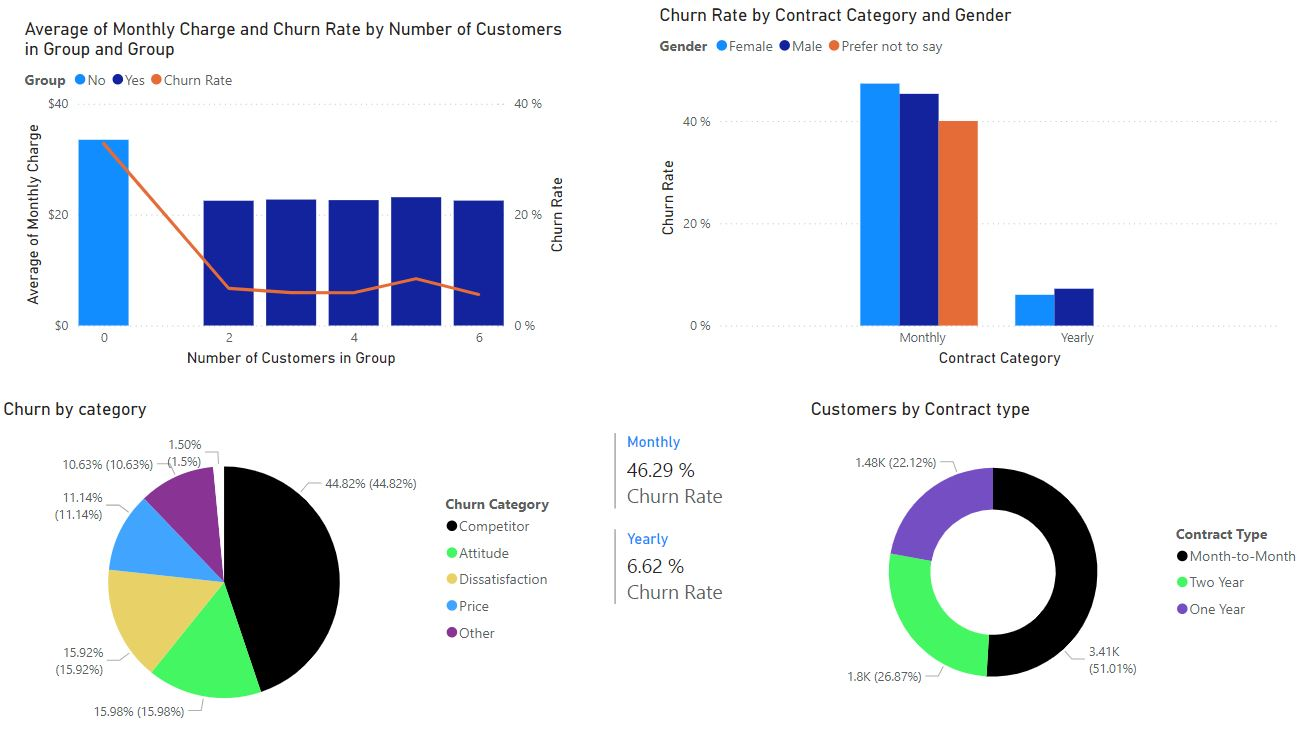

The dashboard page shown, as its layout file describes it:
{"tool":"powerbi","page":{"name":"Groups and Categories","canvas":[1280,720],"ordinal":1},"visuals":[{"type":"lineStackedColumnComboChart","fields":{"Category":["Databel - Data.Number of Customers in Group"],"Y":["Avg(Databel - Data.Monthly Charge)"],"Series":["Databel - Data.Group"],"Y2":["Databel - Data.Churn Rate"]},"box":[20.5,23.5,526.4,337.3],"z":0},{"type":"pieChart","title":"Churn by category","fields":{"Category":["Databel - Data.Churn Category"],"Y":["CountNonNull(Databel - Data.Churn Label)"]},"box":[0,387.1,547,332.9],"z":1000},{"type":"clusteredColumnChart","fields":{"Y":["Databel - Data.Churn Rate"],"Category":["Databel - Data.Contract Category"],"Series":["Databel - Data.Gender"]},"box":[626.2,10.3,601.2,350.5],"z":2000},{"type":"multiRowCard","fields":{"Values":["Databel - Data.Churn Rate","Databel - Data.Contract Category"]},"box":[583.6,415,242,209.7],"z":3000},{"type":"donutChart","title":"Customers by Contract type","fields":{"Y":["Count(Databel - Data.Customer ID)"],"Category":["Databel - Data.Contract Type"]},"box":[771.3,387.1,482.4,313.8],"z":4000}]}

Visuals, with their boxes in screenshot pixels (x1, y1, x2, y2), scaled from the page's 1280x720 canvas onto the 1316x731 screenshot:
lineStackedColumnComboChart - Databel - Data.Number of Customers in Group x Avg(Databel - Data.Monthly Charge): Rect(21, 24, 562, 366)
"Churn by category" pieChart: Rect(0, 393, 562, 730)
clusteredColumnChart - Databel - Data.Churn Rate x Databel - Data.Contract Category: Rect(644, 10, 1262, 366)
multiRowCard - Databel - Data.Churn Rate x Databel - Data.Contract Category: Rect(600, 421, 849, 634)
"Customers by Contract type" donutChart: Rect(793, 393, 1289, 712)
